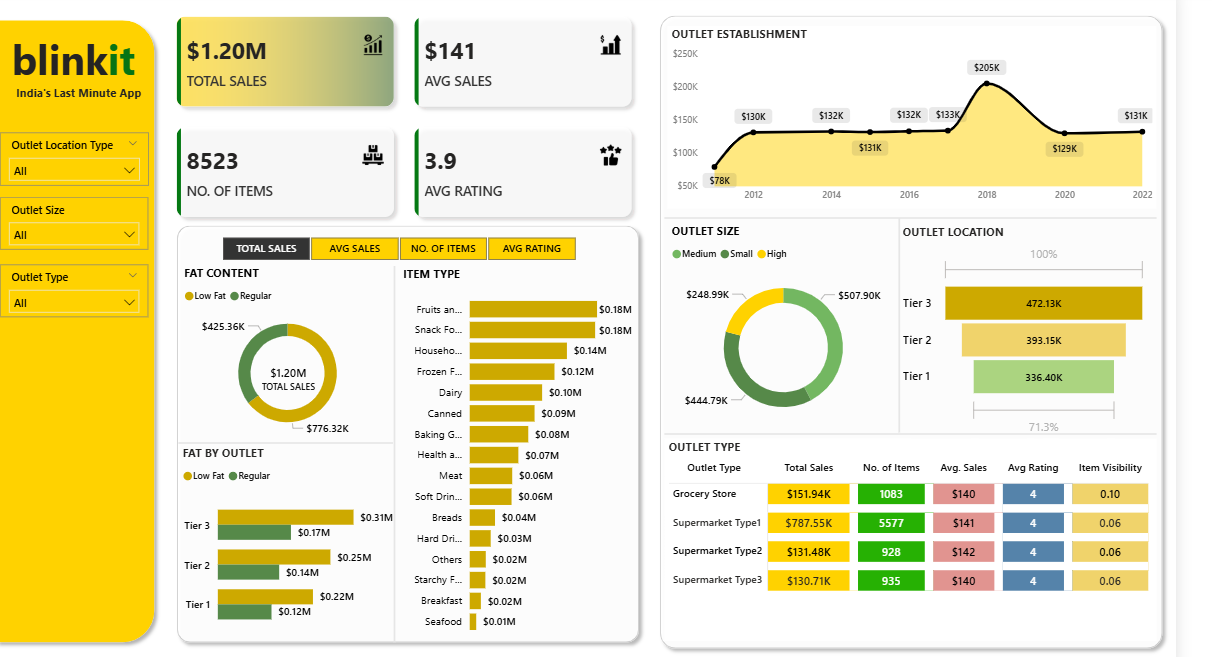

Layout of this report page (visuals, bound fields, positions):
{"tool":"powerbi","page":{"name":"Page 1","canvas":[1400,800],"ordinal":0},"visuals":[{"type":"shape","box":[0,23,205,751.1],"z":0},{"type":"textbox","box":[14.1,38.9,173.2,79.5],"z":1000},{"type":"textbox","box":[28.3,102.5,176.7,33.6],"z":2000},{"type":"cardVisual","fields":{"Data":["BlinkIT Grocery Data.TOTAL SALES","BlinkIT Grocery Data.AVG SALES","BlinkIT Grocery Data.NO. OF ITEMS SOLD","BlinkIT Grocery Data.AVG RATING"]},"box":[205,10.6,570.9,270.4],"z":3000},{"type":"shape","box":[213.8,265.1,562,509],"z":4000},{"type":"slicer","fields":{"Values":["Metrics.Metrics"]},"box":[251,281,465,40],"z":5000},{"type":"donutChart","title":"FAT CONTENT","fields":{"Y":["BlinkIT Grocery Data.TOTAL SALES"],"Category":["BlinkIT Grocery Data.Item Fat Content"]},"box":[226.2,319.9,252.7,210.3],"z":6000},{"type":"cardVisual","fields":{"Data":["BlinkIT Grocery Data.TOTAL SALES"]},"box":[304,420.6,100.7,65.4],"z":7000},{"type":"clusteredBarChart","title":"FAT BY OUTLET","fields":{"Y":["BlinkIT Grocery Data.TOTAL SALES"],"Category":["BlinkIT Grocery Data.Outlet Location Type"],"Series":["BlinkIT Grocery Data.Item Fat Content"]},"box":[224.5,532,258,231.5],"z":8000},{"type":"shape","box":[224.5,517.8,252.7,24.7],"z":9000},{"type":"shape","box":[473.6,321.7,10.6,443.6],"z":10000},{"type":"barChart","title":"ITEM TYPE","fields":{"Y":["BlinkIT Grocery Data.TOTAL SALES"],"Category":["BlinkIT Grocery Data.Item Type"]},"box":[484.3,321.7,279.2,443.6],"z":11000},{"type":"shape","box":[782.9,17.7,609.7,763.5],"z":12000},{"type":"lineChart","title":"OUTLET ESTABLISHMENT","fields":{"Category":["BlinkIT Grocery Data.Outlet Establishment Year"],"Y":["BlinkIT Grocery Data.TOTAL SALES"]},"box":[800.6,38.9,576.2,215.6],"z":13000},{"type":"shape","box":[797.1,258,579.7,14.1],"z":14000},{"type":"donutChart","title":"OUTLET SIZE","fields":{"Y":["BlinkIT Grocery Data.TOTAL SALES"],"Category":["BlinkIT Grocery Data.Outlet Size"]},"box":[800.6,270.4,272.2,249.2],"z":15000},{"type":"shape","box":[1067.5,265.1,12.4,252.7],"z":16000},{"type":"funnel","title":"OUTLET LOCATION","fields":{"Category":["BlinkIT Grocery Data.Outlet Location Type"],"Y":["Sum(BlinkIT Grocery Data.Sales)"]},"box":[1079.8,265.1,296.9,254.5],"z":17000},{"type":"pivotTable","title":"OUTLET TYPE","fields":{"Rows":["BlinkIT Grocery Data.Outlet Type"],"Values":["BlinkIT Grocery Data.TOTAL SALES","BlinkIT Grocery Data.NO. OF ITEMS ","BlinkIT Grocery Data.AVG SALES","BlinkIT Grocery Data.AVG RATING","Avg(BlinkIT Grocery Data.Item Visibility)"]},"box":[797.1,524.9,579.7,238.6],"z":18000},{"type":"shape","box":[797.1,514.3,579.7,10.6],"z":19000},{"type":"slicer","fields":{"Values":["BlinkIT Grocery Data.Outlet Location Type"]},"box":[14.3,164.3,175,62.5],"z":20000},{"type":"slicer","fields":{"Values":["BlinkIT Grocery Data.Outlet Size"]},"box":[14.3,237.5,173.2,67.9],"z":21000},{"type":"slicer","fields":{"Values":["BlinkIT Grocery Data.Outlet Type"]},"box":[16.1,319.6,173.2,67.9],"z":22000}]}

Visuals, with their boxes on the page's 1400x800 design canvas (x1, y1, x2, y2). These are canvas units, not pixel positions in the 1212x657 screenshot, which may show the page scaled, cropped or inside an application window:
shape: (left=0, top=23, right=205, bottom=774)
textbox: (left=14, top=39, right=187, bottom=118)
textbox: (left=28, top=102, right=205, bottom=136)
cardVisual - BlinkIT Grocery Data.TOTAL SALES x BlinkIT Grocery Data.AVG SALES: (left=205, top=11, right=776, bottom=281)
shape: (left=214, top=265, right=776, bottom=774)
slicer - Metrics.Metrics: (left=251, top=281, right=716, bottom=321)
"FAT CONTENT" donutChart: (left=226, top=320, right=479, bottom=530)
cardVisual - BlinkIT Grocery Data.TOTAL SALES: (left=304, top=421, right=405, bottom=486)
"FAT BY OUTLET" clusteredBarChart: (left=224, top=532, right=482, bottom=764)
shape: (left=224, top=518, right=477, bottom=542)
shape: (left=474, top=322, right=484, bottom=765)
"ITEM TYPE" barChart: (left=484, top=322, right=764, bottom=765)
shape: (left=783, top=18, right=1393, bottom=781)
"OUTLET ESTABLISHMENT" lineChart: (left=801, top=39, right=1377, bottom=254)
shape: (left=797, top=258, right=1377, bottom=272)
"OUTLET SIZE" donutChart: (left=801, top=270, right=1073, bottom=520)
shape: (left=1068, top=265, right=1080, bottom=518)
"OUTLET LOCATION" funnel: (left=1080, top=265, right=1377, bottom=520)
"OUTLET TYPE" pivotTable: (left=797, top=525, right=1377, bottom=764)
shape: (left=797, top=514, right=1377, bottom=525)
slicer - BlinkIT Grocery Data.Outlet Location Type: (left=14, top=164, right=189, bottom=227)
slicer - BlinkIT Grocery Data.Outlet Size: (left=14, top=238, right=188, bottom=305)
slicer - BlinkIT Grocery Data.Outlet Type: (left=16, top=320, right=189, bottom=388)
